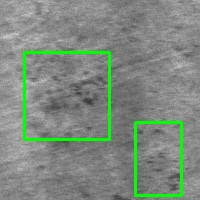rolled-in_scale: (24, 52, 109, 139), (135, 122, 181, 195)
